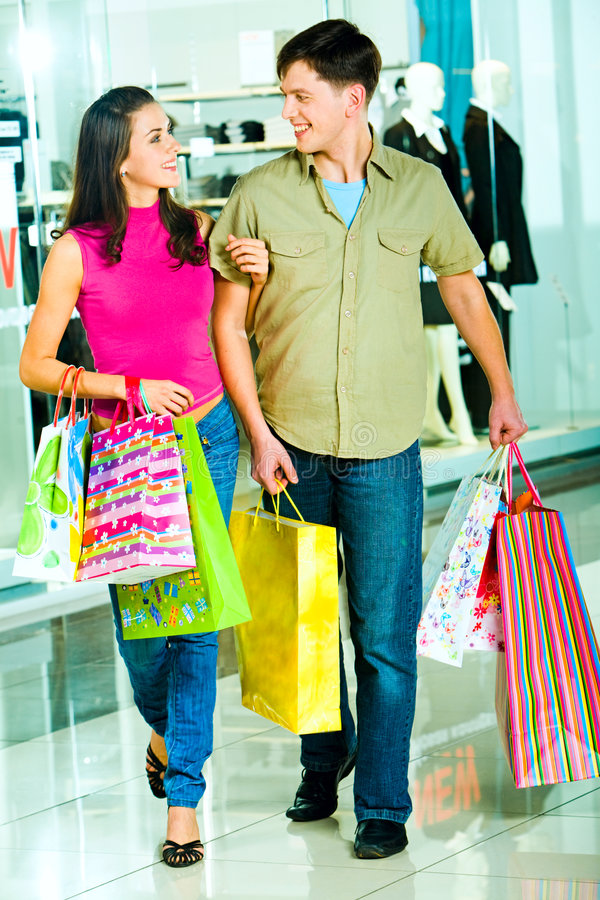Person: (211, 25, 524, 864), (18, 88, 218, 873)
